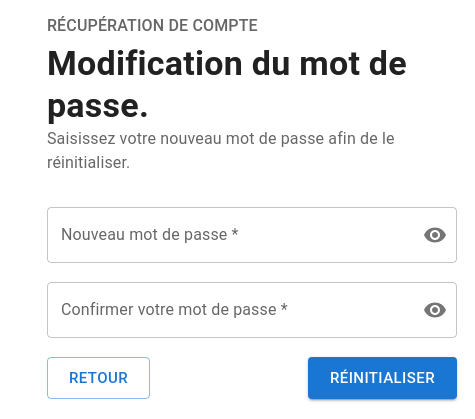
it: PasswordUpdatePage › shows validation error when password is shorter than 8 chars
This screenshot has width=475, height=419.
Type "short" into the password field labelled "Nouveau mot de passe *" at (227, 235), box [47,207,407,263]
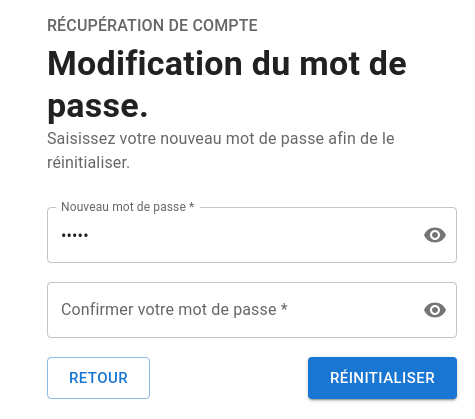
Type "short" into the password field labelled "Confirmer votre mot de passe *" at (227, 310), box [47,282,407,338]
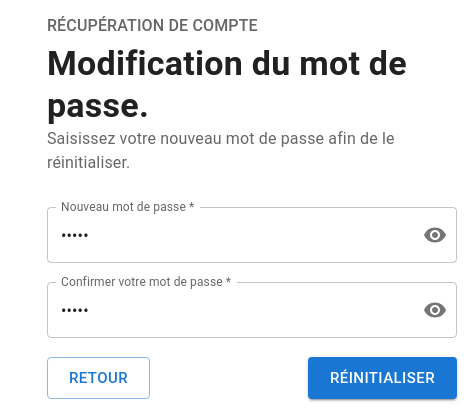
Click the button "Réinitialiser" at (382, 378), box [308,357,457,400]
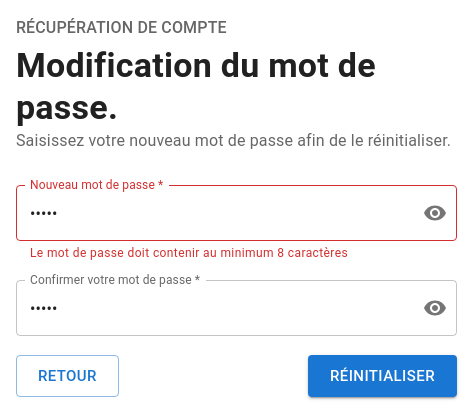
Check: the text "Le mot de passe doit contenir au minimum 8 caractères" is shown, box [30,246,348,260]
